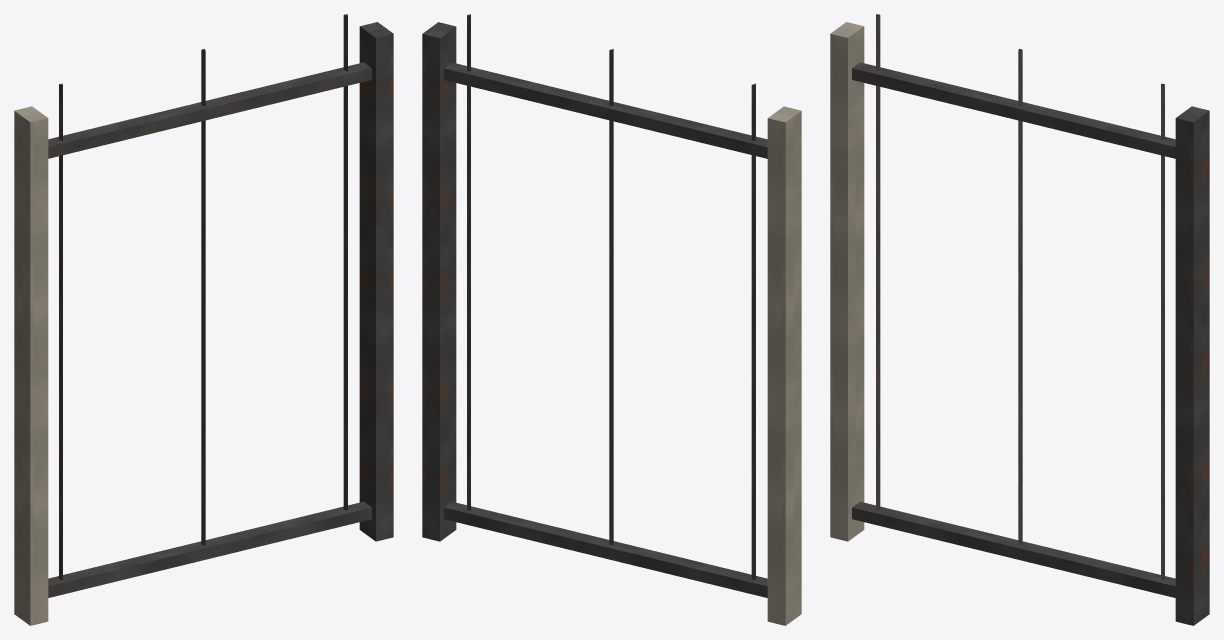
File: Prop_MetalFence_Simple_LOD2.gltf
The picture shows the model from 3 angles, left to right: view 1: azimuth 30°, elevation 25°; view 2: azimuth 150°, elevation 25°; view 3: azimuth 330°, elevation 25°; orthographic projection.
Parts seen in each view (by area): view 1: Prop_MetalFence_Simple_LOD2; view 2: Prop_MetalFence_Simple_LOD2; view 3: Prop_MetalFence_Simple_LOD2.
Part boxes in pixels (x1,y1,x2,y2): Prop_MetalFence_Simple_LOD2: (14, 14, 393, 625); Prop_MetalFence_Simple_LOD2: (422, 14, 801, 625); Prop_MetalFence_Simple_LOD2: (830, 14, 1209, 625).
Bounding box in the file's own units: 1.95 × 2.7 × 0.15.
Materials: 2 (2 with a texture image).
